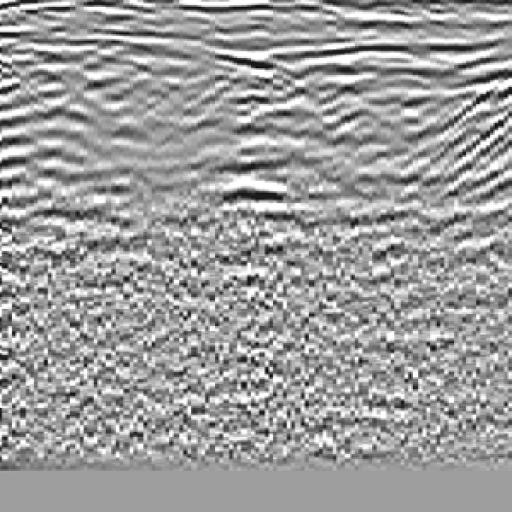metalic: (196, 37, 316, 248)
nonmetalic: (415, 45, 512, 239)
